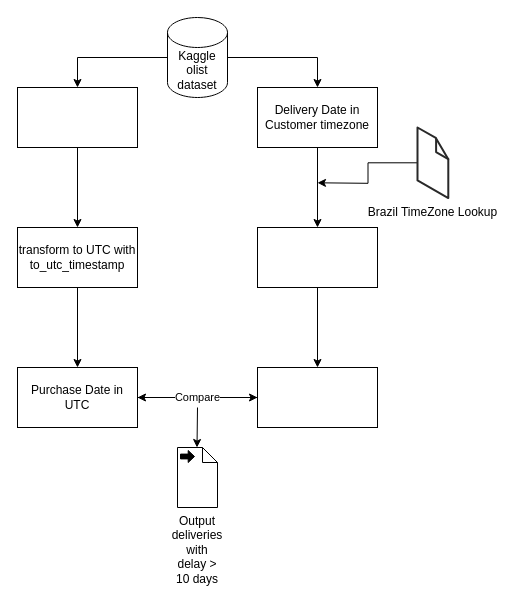
This 515x604 diagram has some shape labels left out. The shapes that lost their labels are listed below. From the top down, each one's centre as x and y in pixels, then its label:
point 77,117: Purchase Date in America/Sao_Paulo timezone
point 317,257: transform to UTC with to_utc_timestamp based on customer state
point 317,397: Delivery Date in UTC
